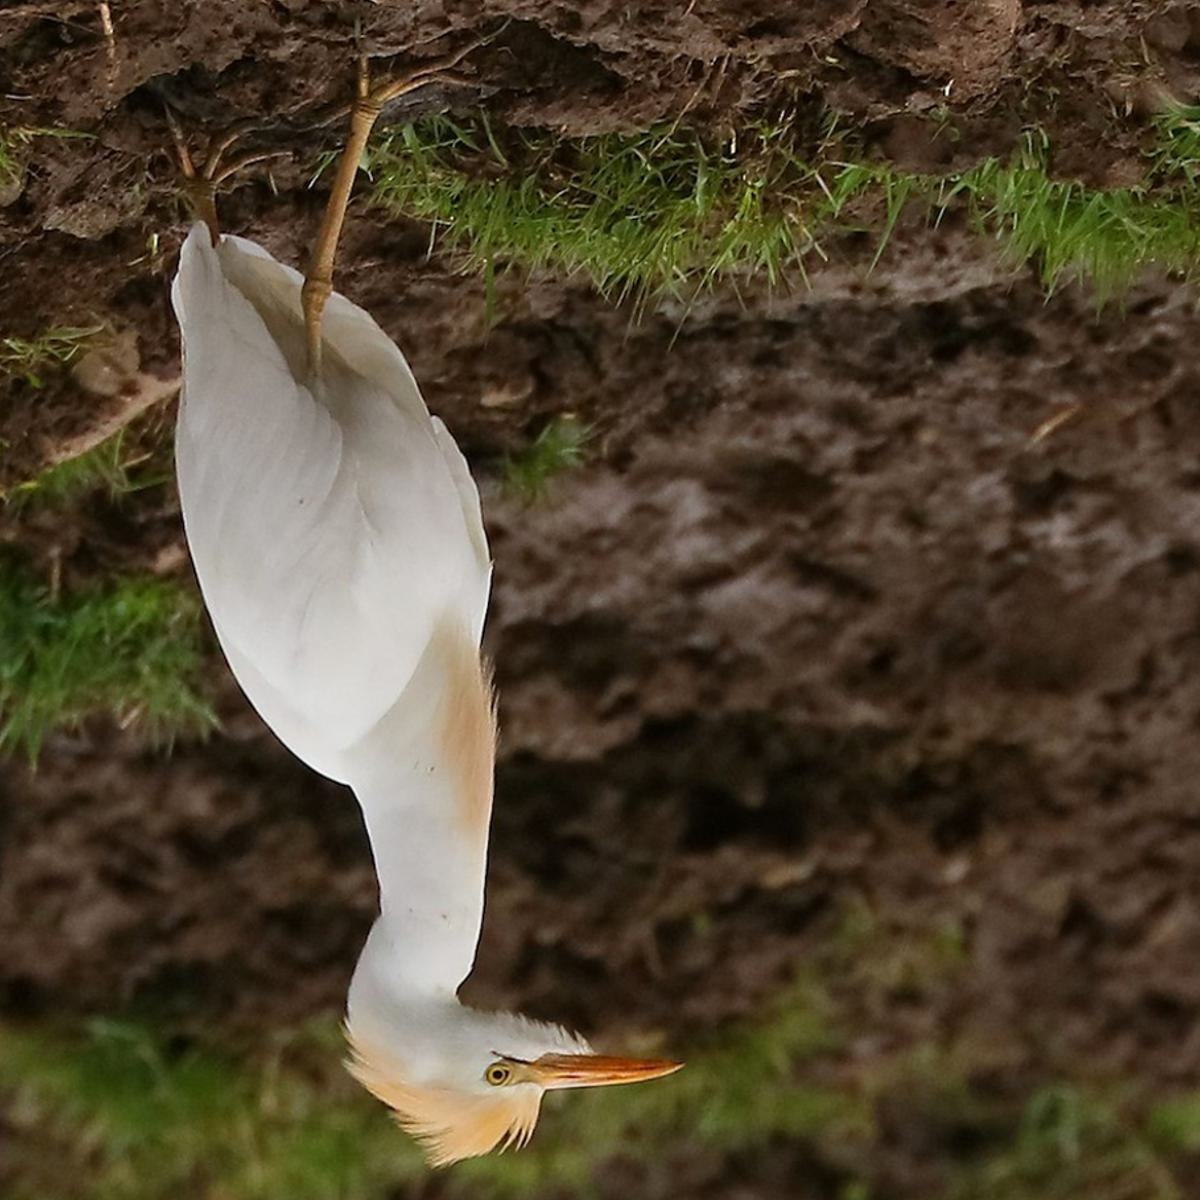egret: (110, 113, 696, 1171)
